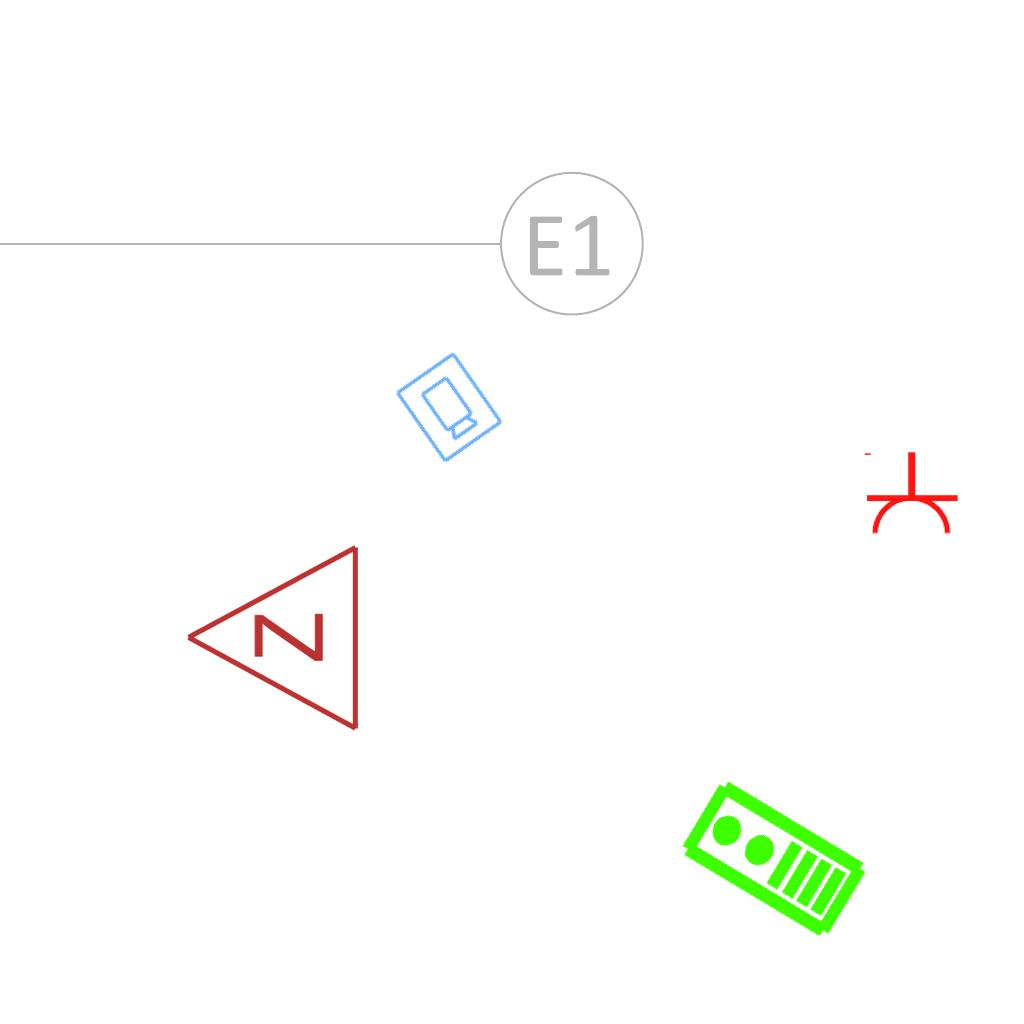Gegensprechanlage_mit_Video: (672, 773, 873, 947)
KFO_Kamera_mit_Festobjektiv: (390, 348, 507, 467)
Schukosteckdose_einfach: (860, 450, 960, 537)
Zimmersignalleuchte: (173, 542, 373, 738)
